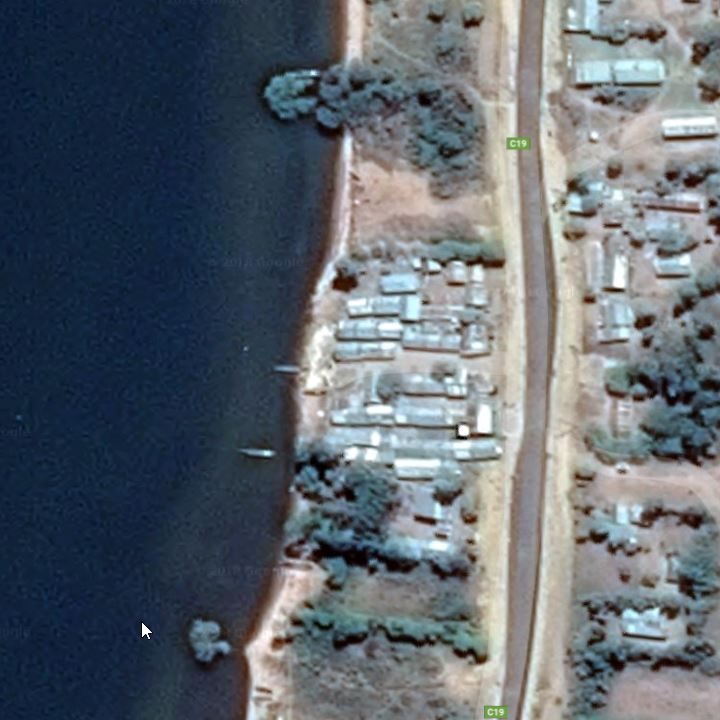boat: (232, 444, 284, 465), (263, 362, 311, 376), (296, 387, 332, 400)
